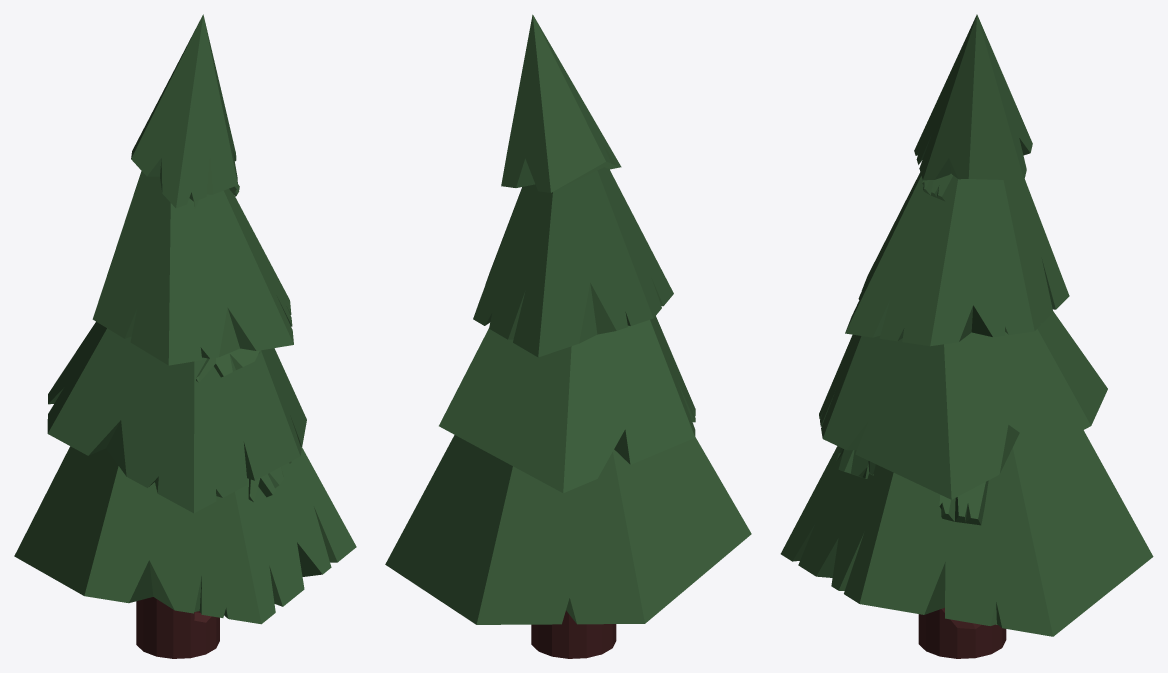
3 renders of one model, left to right at view 1: azimuth 30°, elevation 25°; view 2: azimuth 150°, elevation 25°; view 3: azimuth 270°, elevation 25°, orthographic. The views are drawn at different scales.
Parts seen in each view (by area): view 1: Cone.008, Cone.009, Cone.010, Cone.011, Cylinder.002, Cube.002, Cube; view 2: Cone.008, Cone.009, Cone.010, Cone.011, Cylinder.002; view 3: Cone.008, Cone.009, Cone.010, Cone.011, Cylinder.002, Cube.001, Cube, Cube.003.
Boxes of the visible parts, left/top/right/bottom form: Cone.008: left=14, top=446, right=356, bottom=624; Cone.009: left=47, top=200, right=306, bottom=513; Cone.010: left=92, top=171, right=293, bottom=365; Cone.011: left=131, top=14, right=237, bottom=208; Cylinder.002: left=136, top=597, right=219, bottom=658; Cube.002: left=196, top=348, right=260, bottom=382; Cube: left=248, top=467, right=283, bottom=501; Cone.008: left=385, top=435, right=751, bottom=624; Cone.009: left=439, top=316, right=695, bottom=493; Cone.010: left=473, top=167, right=673, bottom=357; Cone.011: left=501, top=14, right=621, bottom=192; Cylinder.002: left=531, top=610, right=616, bottom=658; Cone.008: left=780, top=430, right=1153, bottom=636; Cone.009: left=819, top=311, right=1107, bottom=499; Cone.010: left=845, top=172, right=1069, bottom=346; Cone.011: left=914, top=14, right=1032, bottom=180; Cylinder.002: left=918, top=607, right=1006, bottom=658; Cube.001: left=939, top=480, right=988, bottom=525; Cube: left=836, top=448, right=868, bottom=478; Cube.003: left=922, top=173, right=957, bottom=201.
Bounding box in the file's own units: 502 × 1068 × 561.
